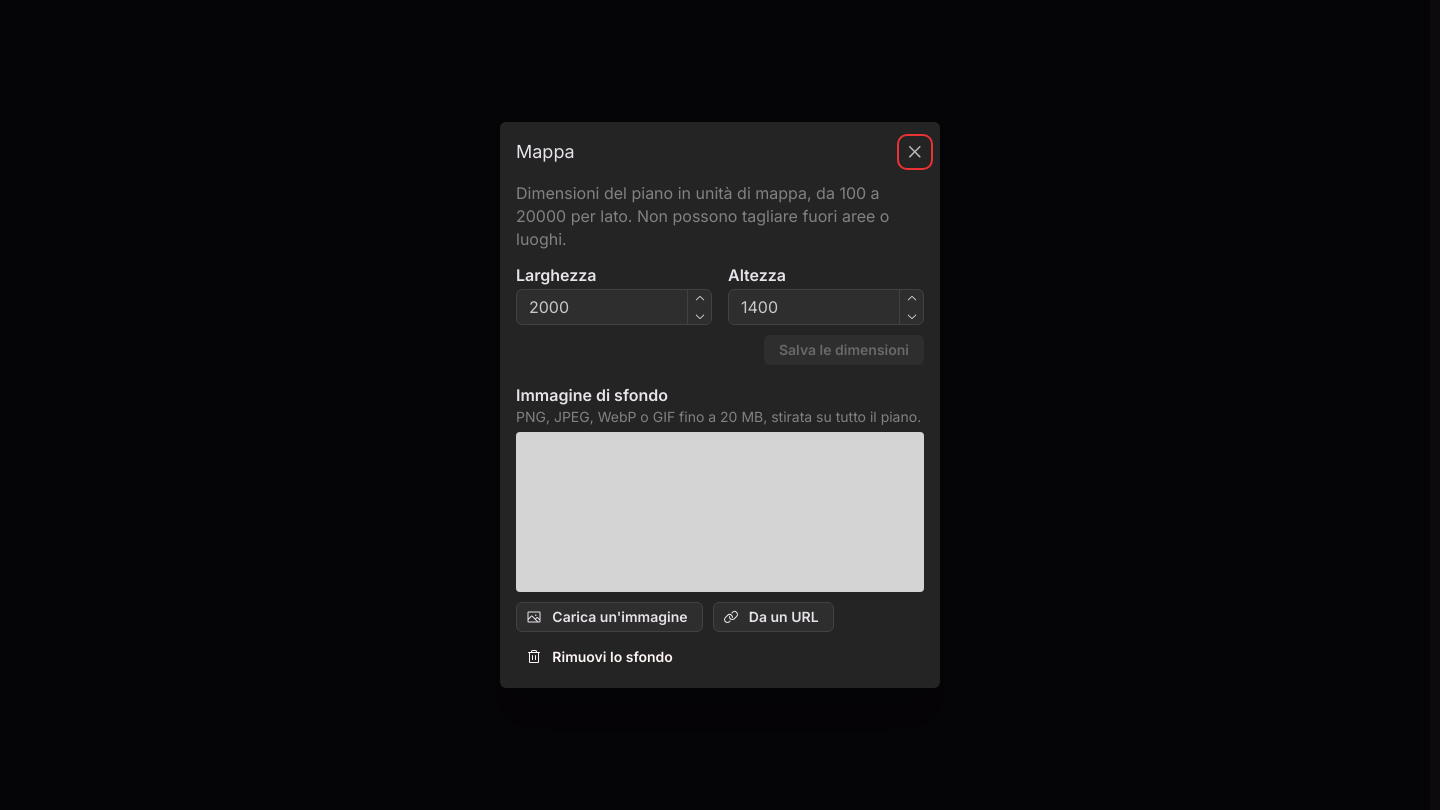
Test: GeoMapDialog › shows the background, removes it, and says why a change failed
Click the button "Rimuovi lo sfondo" at (602,657), box [516,642,688,672]
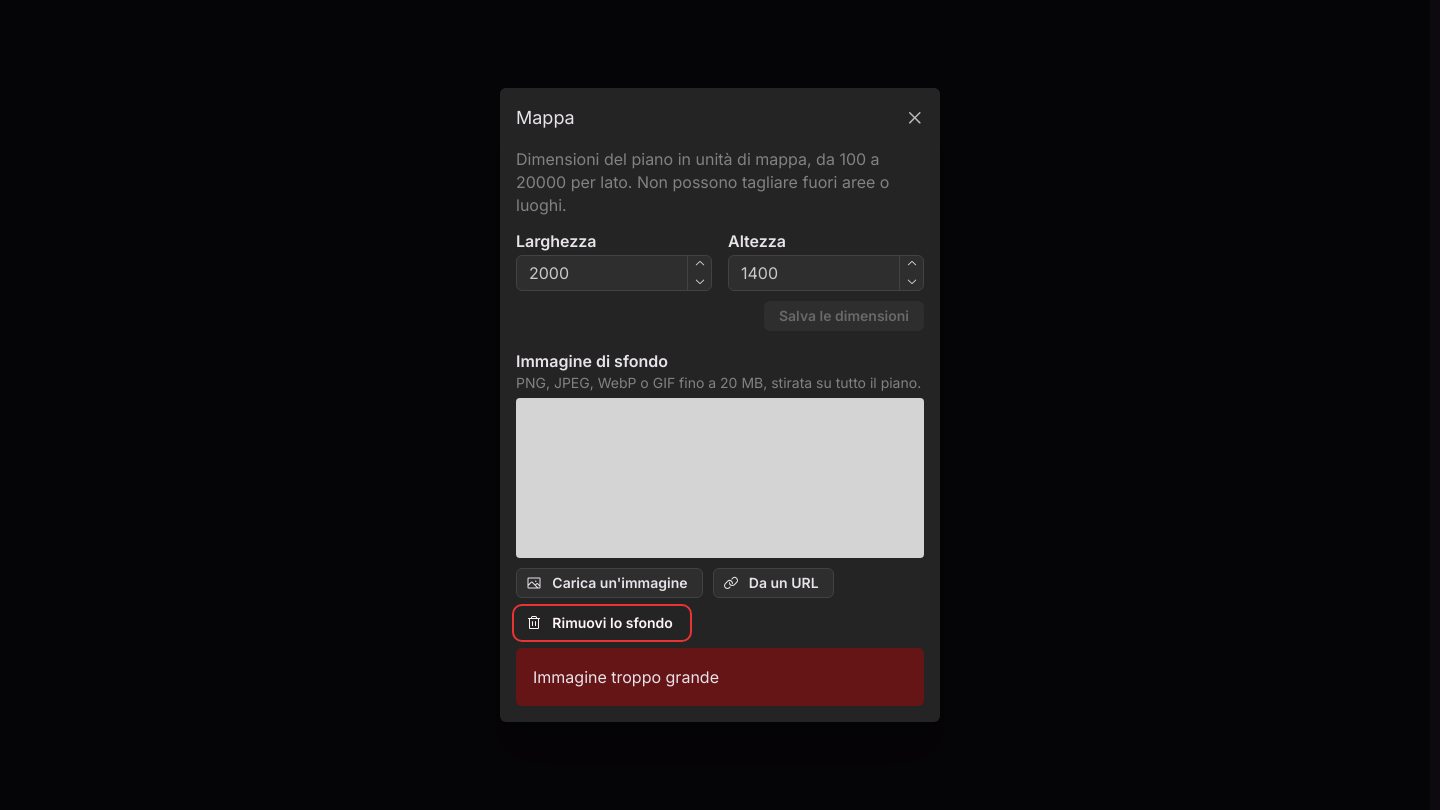
Check: the text "Immagine troppo grande" is shown, box [533,667,719,687]
